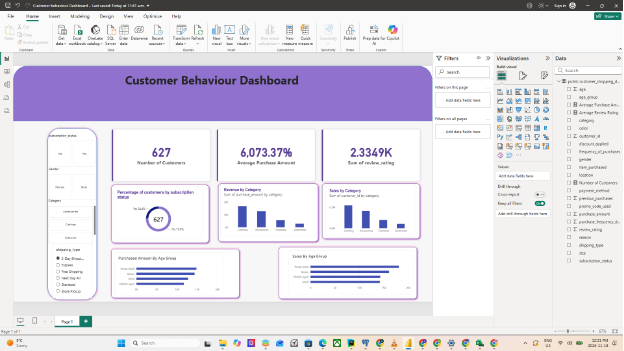

The page's visual inventory and layout, read from the dashboard file:
{"tool":"powerbi","page":{"name":"Page 1","canvas":[1920,1080],"ordinal":0},"visuals":[{"type":"cardVisual","fields":{"Data":["public customer_shopping_data.Number of Customers","public customer_shopping_data.Average Purchase Amount","Sum(public customer_shopping_data.review_rating)"]},"box":[440.2,279.6,1436.7,260.3],"z":0},{"type":"shape","box":[0,0,1920,252.4],"z":1000},{"type":"textbox","box":[1564,0,356,145.9],"z":2000},{"type":"textbox","box":[459.6,536.9,1399.5,284.1],"z":3000},{"type":"textbox","box":[0,26.3,1820.8,90.5],"z":4000},{"type":"shape","box":[440.2,535.4,465.5,284.1],"z":5000},{"type":"donutChart","title":"Percentage of customers by subscription status","fields":{"Category":["public customer_shopping_data.subscription_status"],"Y":["CountNonNull(public customer_shopping_data.customer_id)"]},"box":[459.6,551.8,410.5,239.4],"z":6000},{"type":"shape","box":[1406.9,529.5,465.5,270.7],"z":7000},{"type":"shape","box":[929.5,529.5,475.9,284.1],"z":8000},{"type":"clusteredColumnChart","title":"Revenue by Category","fields":{"Category":["public customer_shopping_data.category"],"Y":["Sum(public customer_shopping_data.purchase_amount)"]},"box":[947.4,539.9,440.2,240.9],"z":9000},{"type":"clusteredColumnChart","title":"Sales by Category","fields":{"Category":["public customer_shopping_data.category"],"Y":["Sum(public customer_shopping_data.customer_id)"]},"box":[1432.2,544.3,414.9,240.9],"z":10000},{"type":"shape","box":[148.7,276.6,242.4,803.1],"z":11000},{"type":"advancedSlicerVisual","fields":{"Values":["public customer_shopping_data.subscription_status"]},"box":[163.6,310.8,215.6,150.2],"z":12000},{"type":"advancedSlicerVisual","fields":{"Values":["public customer_shopping_data.gender"]},"box":[162.1,464,215.6,150.2],"z":13000},{"type":"advancedSlicerVisual","fields":{"Values":["public customer_shopping_data.category"]},"box":[160.6,608.3,217.1,205.2],"z":14000},{"type":"listSlicer","fields":{"Values":["public customer_shopping_data.shipping_type"]},"box":[178.5,813.5,182.9,249.9],"z":15000},{"type":"clusteredBarChart","title":"Purchased A","box":[496.7,844.7,432.8,209.7],"z":16000},{"type":"shape","box":[440.2,828.4,603.8,242.4],"z":17000},{"type":"clusteredBarChart","title":"Purchased Amount By Age Group","fields":{"Category":["public customer_shopping_data.age_group"],"Y":["Sum(public customer_shopping_data.purchase_frequency_days)"]},"box":[464,853.7,498.2,200.8],"z":18000},{"type":"shape","box":[1135.6,796.3,650.4,275.3],"z":19000},{"type":"clusteredBarChart","title":"Sales By Age Group","fields":{"Category":["public customer_shopping_data.age_group"],"Y":["CountNonNull(public customer_shopping_data.customer_id)"]},"box":[1167.5,820.9,574.1,217.1],"z":20000}]}

Visuals, with their boxes on the page's 1920x1080 design canvas (x1, y1, x2, y2). These are canvas units, not pixel positions in the 624x351 screenshot, which may show the page scaled, cropped or inside an application window:
cardVisual - public customer_shopping_data.Number of Customers x public customer_shopping_data.Average Purchase Amount: x1=440 y1=280 x2=1877 y2=540
shape: x1=0 y1=0 x2=1920 y2=252
textbox: x1=1564 y1=0 x2=1920 y2=146
textbox: x1=460 y1=537 x2=1859 y2=821
textbox: x1=0 y1=26 x2=1821 y2=117
shape: x1=440 y1=535 x2=906 y2=820
"Percentage of customers by subscription status" donutChart: x1=460 y1=552 x2=870 y2=791
shape: x1=1407 y1=530 x2=1872 y2=800
shape: x1=930 y1=530 x2=1405 y2=814
"Revenue by Category" clusteredColumnChart: x1=947 y1=540 x2=1388 y2=781
"Sales by Category" clusteredColumnChart: x1=1432 y1=544 x2=1847 y2=785
shape: x1=149 y1=277 x2=391 y2=1080
advancedSlicerVisual - public customer_shopping_data.subscription_status: x1=164 y1=311 x2=379 y2=461
advancedSlicerVisual - public customer_shopping_data.gender: x1=162 y1=464 x2=378 y2=614
advancedSlicerVisual - public customer_shopping_data.category: x1=161 y1=608 x2=378 y2=814
listSlicer - public customer_shopping_data.shipping_type: x1=178 y1=814 x2=361 y2=1063
"Purchased A" clusteredBarChart: x1=497 y1=845 x2=930 y2=1054
shape: x1=440 y1=828 x2=1044 y2=1071
"Purchased Amount By Age Group" clusteredBarChart: x1=464 y1=854 x2=962 y2=1054
shape: x1=1136 y1=796 x2=1786 y2=1072
"Sales By Age Group" clusteredBarChart: x1=1168 y1=821 x2=1742 y2=1038
